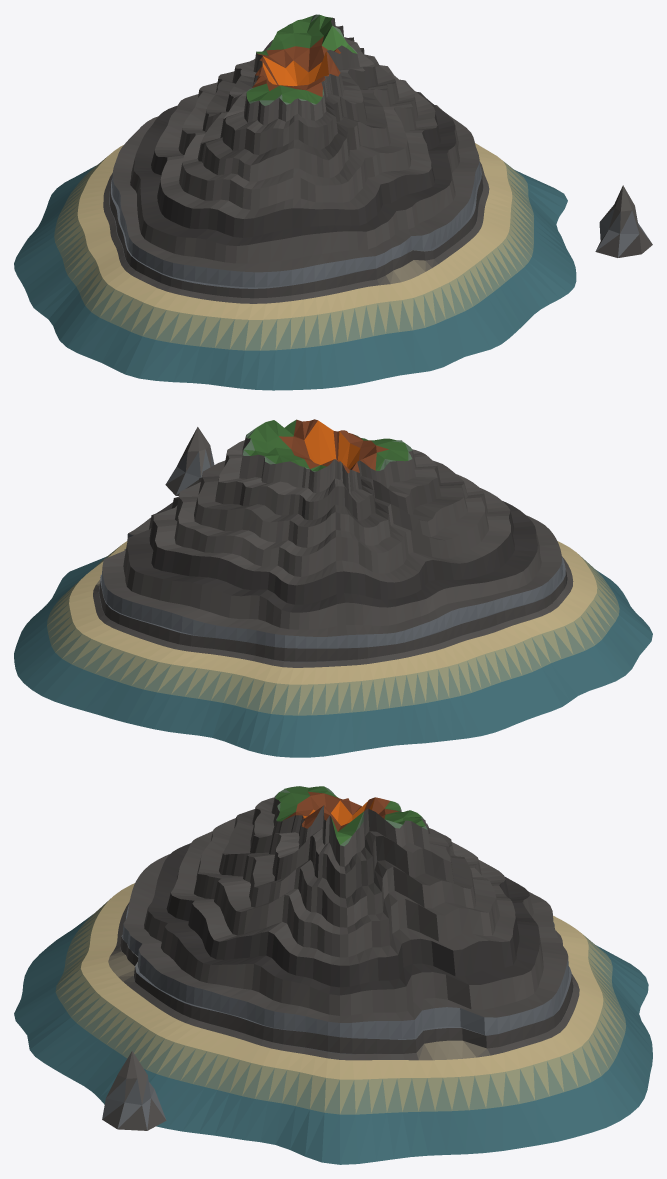
The model's file is storm.glb.
The picture shows the model from 3 angles, top to bottom: view 1: azimuth 30°, elevation 25°; view 2: azimuth 150°, elevation 25°; view 3: azimuth 270°, elevation 25°; orthographic projection. The views are drawn at different scales.
Visible parts, largest first — view 1: storm; view 2: storm; view 3: storm.
Boxes of the visible parts, x1,y1,x2,y2 form: storm: [14, 14, 652, 390]; storm: [14, 419, 652, 757]; storm: [14, 786, 652, 1164].
Size of the model in its own units: 61.54 by 24.54 by 58.44.
